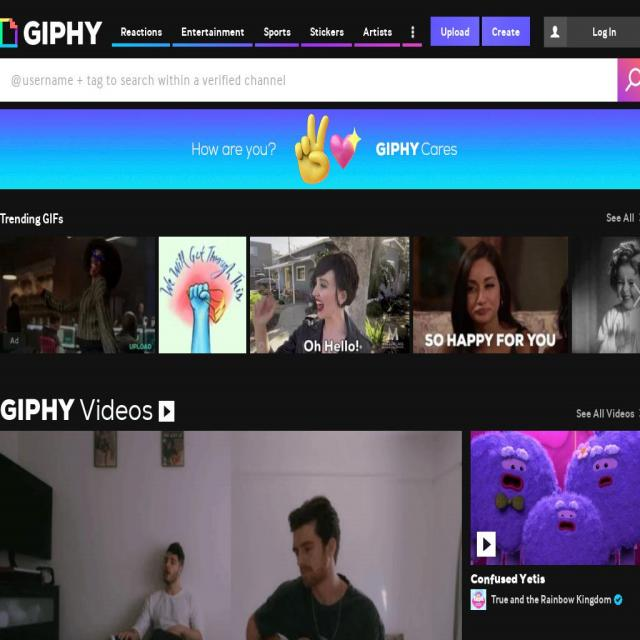button: (0, 432, 462, 640), (470, 431, 640, 566), (250, 236, 410, 355), (0, 232, 154, 354), (414, 238, 567, 354), (159, 236, 247, 354), (570, 235, 640, 353), (0, 395, 174, 426), (470, 589, 622, 611), (0, 18, 103, 48), (544, 16, 640, 48), (172, 16, 252, 46), (112, 16, 170, 46), (431, 16, 482, 46), (301, 16, 352, 46), (482, 16, 530, 46), (354, 16, 400, 46), (255, 16, 299, 46), (617, 58, 640, 101), (401, 16, 422, 46), (629, 279, 640, 315)
field: (0, 58, 618, 102)
